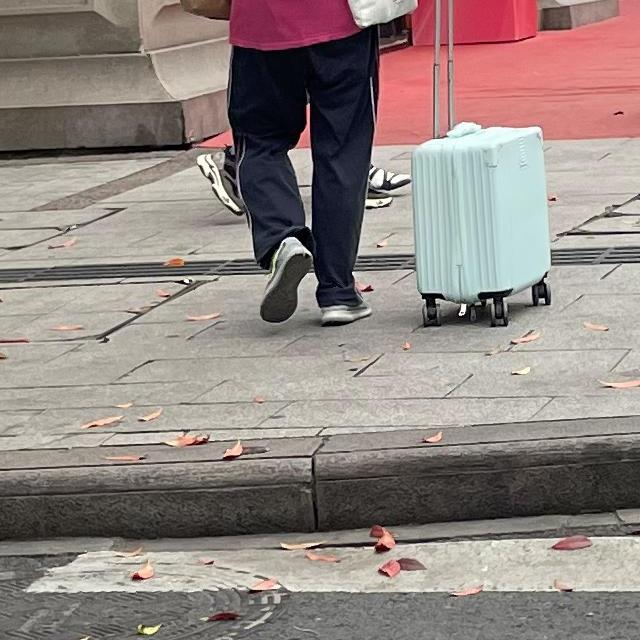curb: (0, 417, 639, 540)
